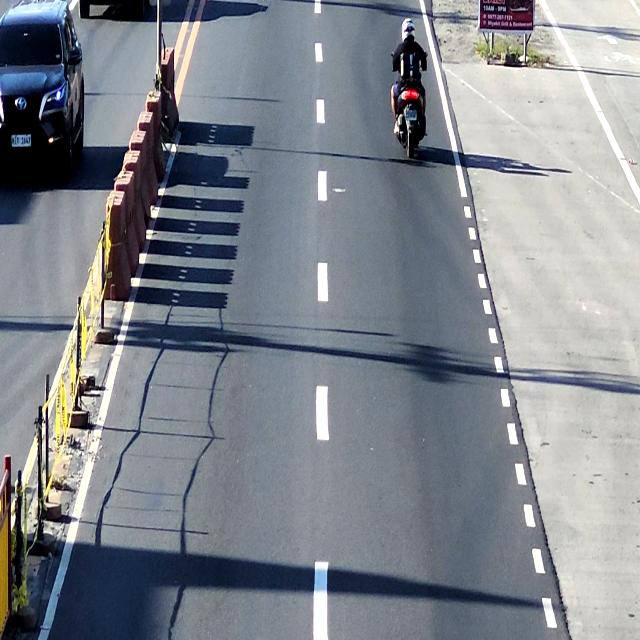License-Plate: (403, 107, 418, 122)
Motorcycle: (388, 12, 430, 174)
